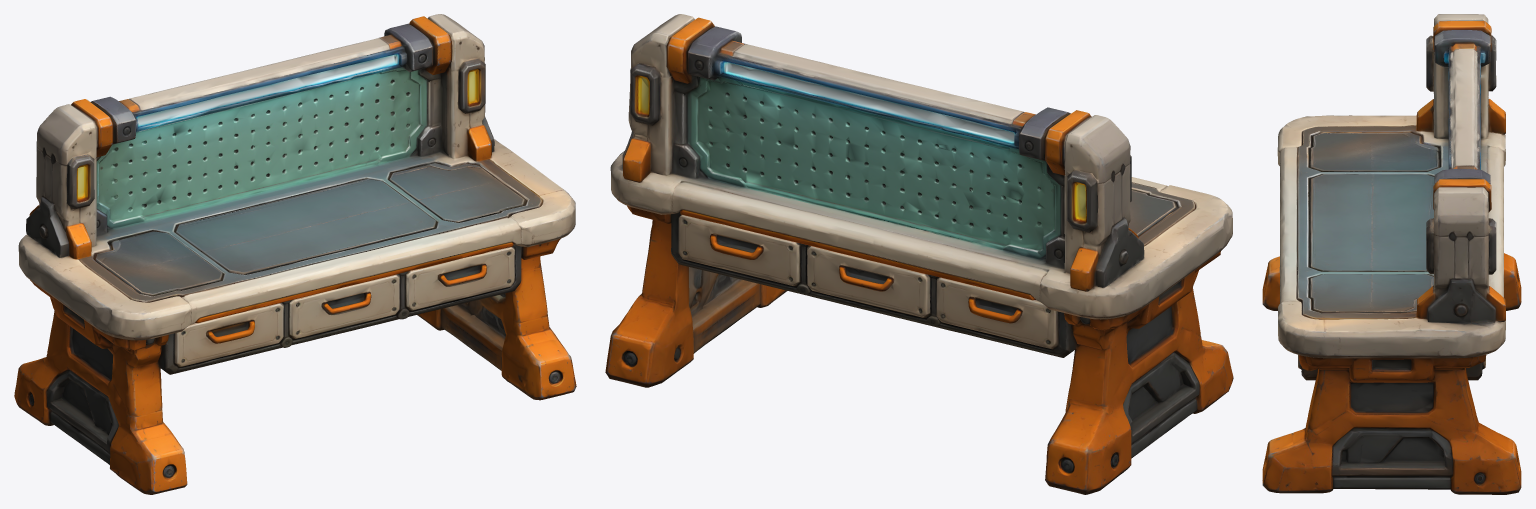
The model's file is sci-fi+workbench+3d+model.glb.
3 renders of one model, left to right at view 1: azimuth 30°, elevation 25°; view 2: azimuth 150°, elevation 25°; view 3: azimuth 270°, elevation 25°, orthographic. The views are drawn at different scales.
Parts seen in each view (by area): view 1: tripo_node_4620f32f-3a64-4bb9-8f2a-94b6a861596c; view 2: tripo_node_4620f32f-3a64-4bb9-8f2a-94b6a861596c; view 3: tripo_node_4620f32f-3a64-4bb9-8f2a-94b6a861596c.
Boxes of the visible parts, x1=… form: tripo_node_4620f32f-3a64-4bb9-8f2a-94b6a861596c: x1=14, y1=14, x2=576, y2=494; tripo_node_4620f32f-3a64-4bb9-8f2a-94b6a861596c: x1=605, y1=14, x2=1233, y2=494; tripo_node_4620f32f-3a64-4bb9-8f2a-94b6a861596c: x1=1262, y1=14, x2=1521, y2=494.
Size of the model in its own units: 1 by 0.6125 by 0.4946.
1 material, 1 textured.
